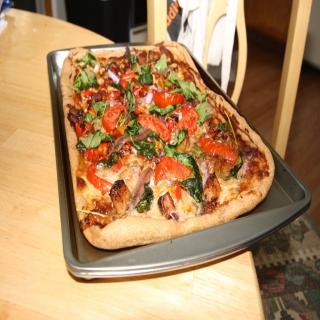Pizza: (51, 46, 277, 253)
